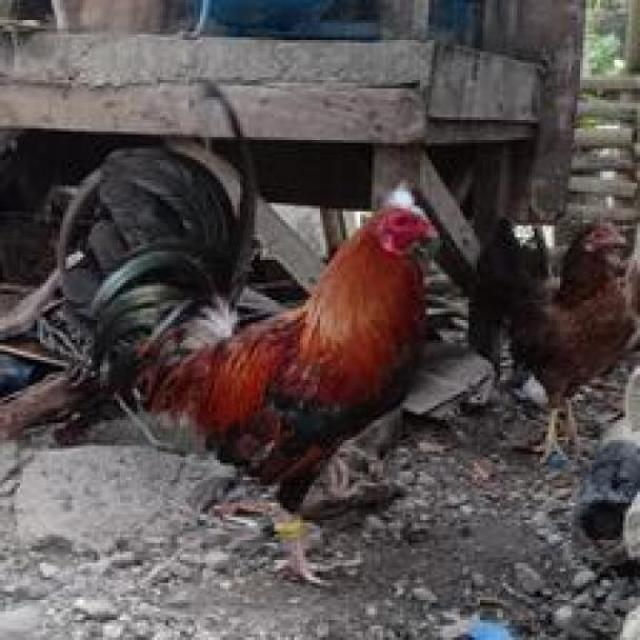Chicken: (8, 113, 449, 591)
